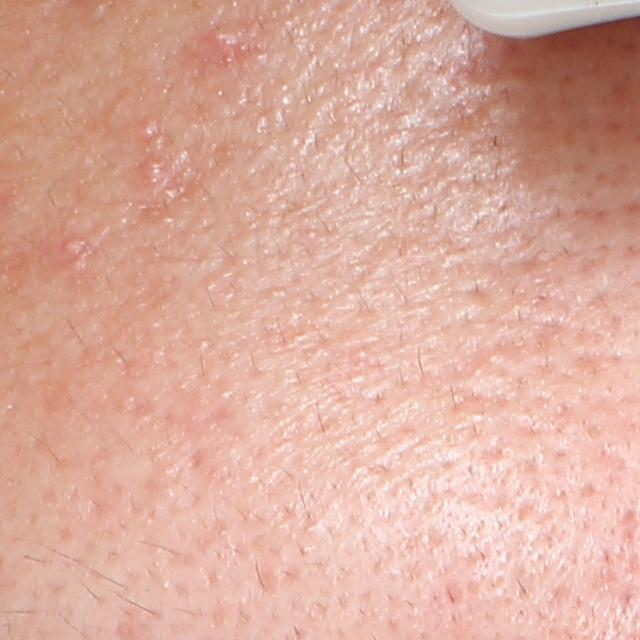comedo: (138, 118, 157, 142)
papule: (204, 24, 239, 54), (140, 157, 168, 186), (60, 237, 87, 260)
